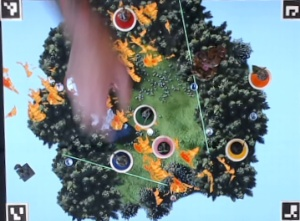blue: (107, 149, 137, 175)
green: (132, 102, 160, 128)
orange: (246, 64, 273, 90)
pink: (149, 134, 177, 161)
red: (109, 5, 140, 33)
yellow: (223, 135, 251, 162)
